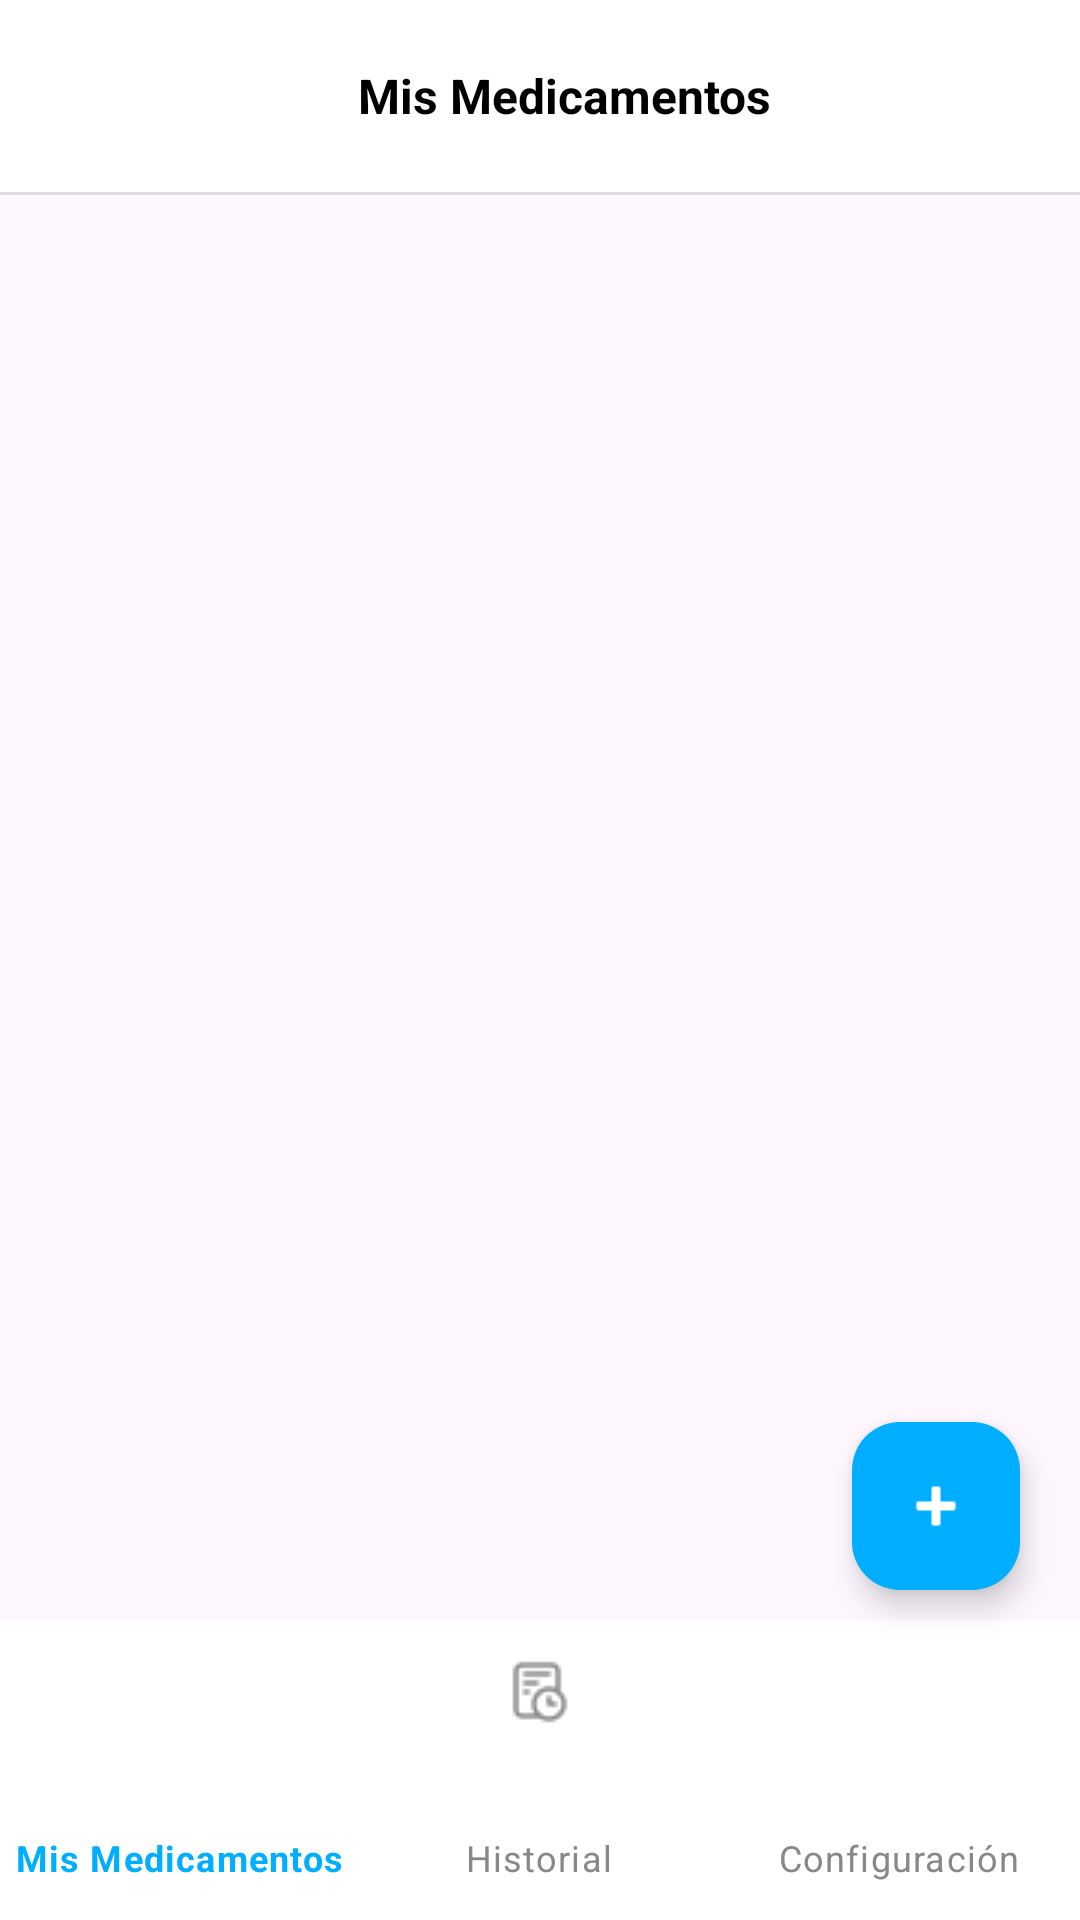

Locate icon controls on the screen. Image size 1080px×1920px, boxes as BBox(x1, y1, x2, y2).
add: BBox(852, 1422, 1020, 1590)
